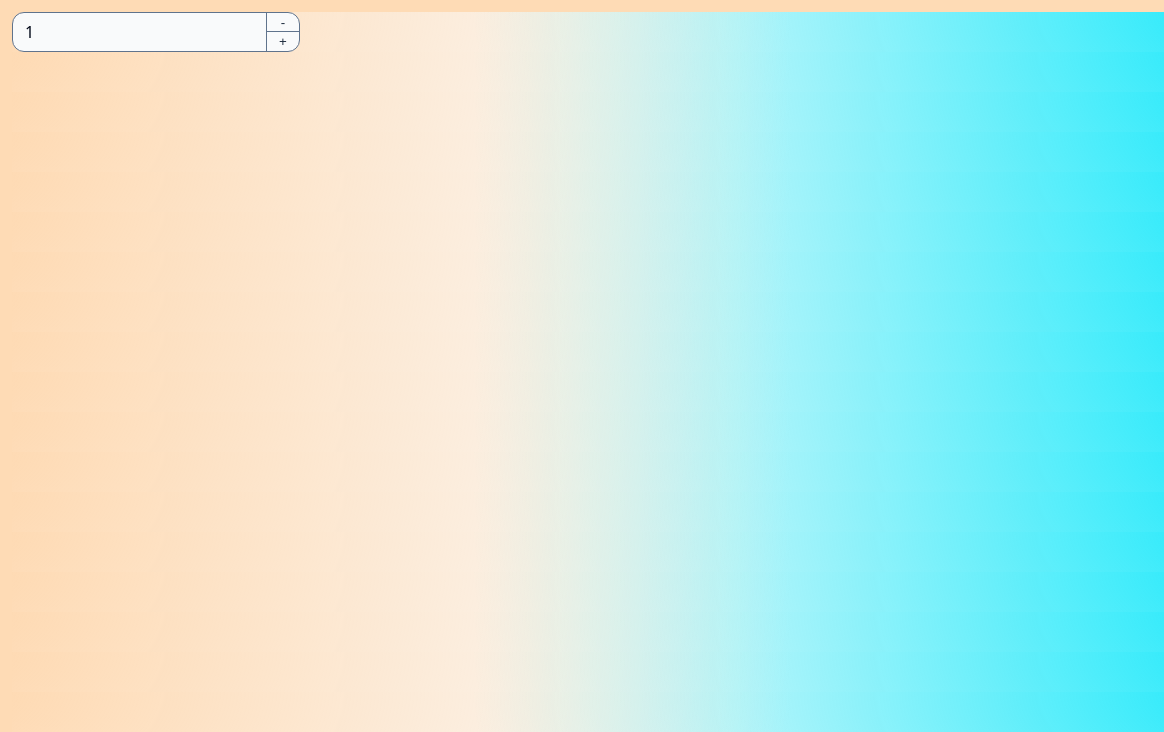
NumberField › управляемый режим › работает как обычный controlled-компонент
Click the button named "Increase value": (283, 42) [267,32,299,51]
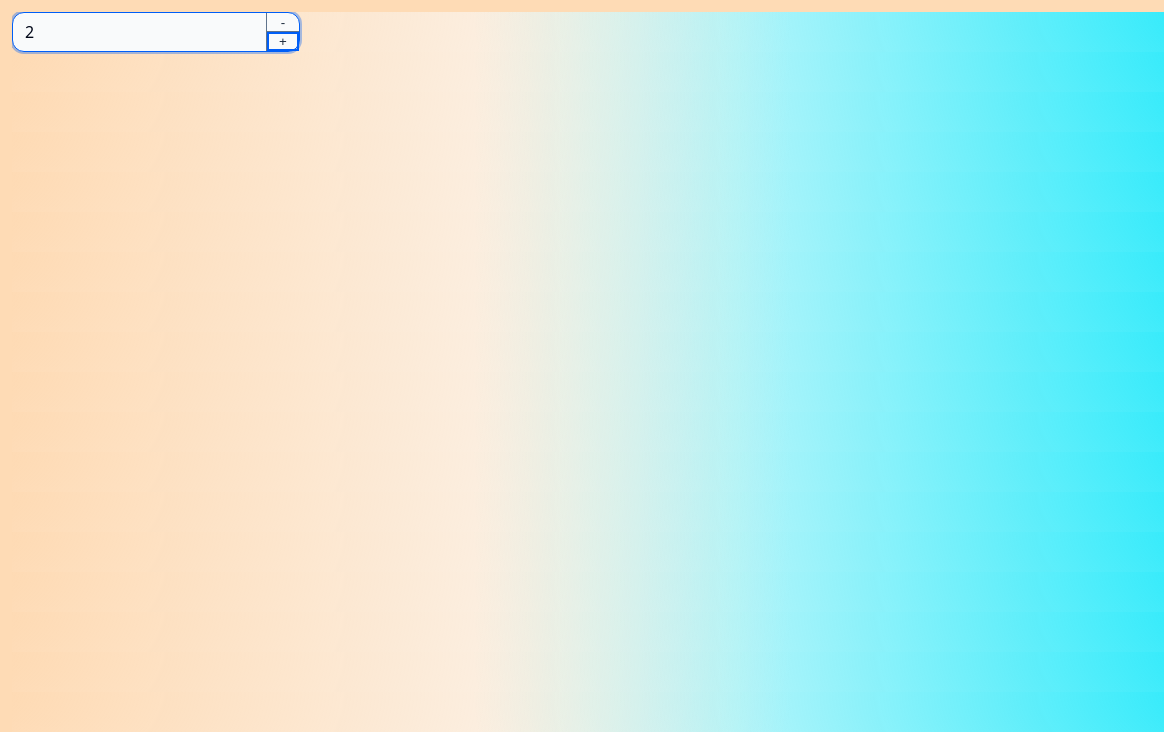
Click the button named "Increase value": (283, 42) [267,32,299,51]
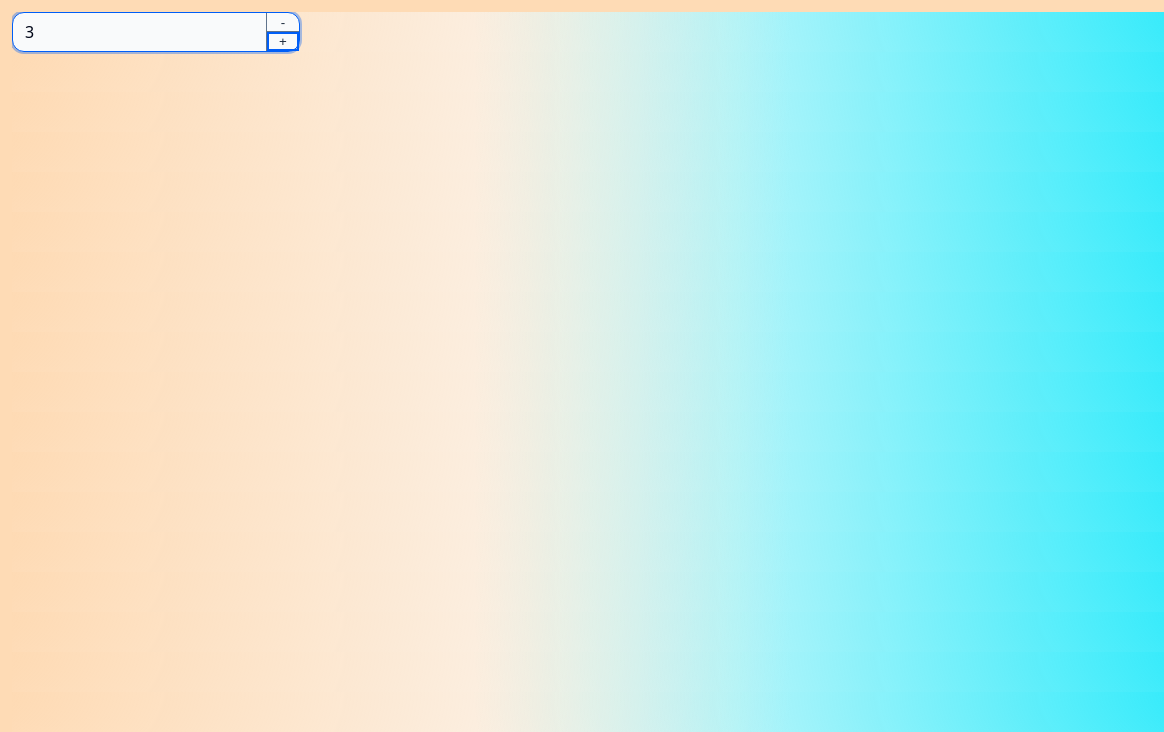
Now the number field named "Qty" holds "3", box [13,13,266,51]
